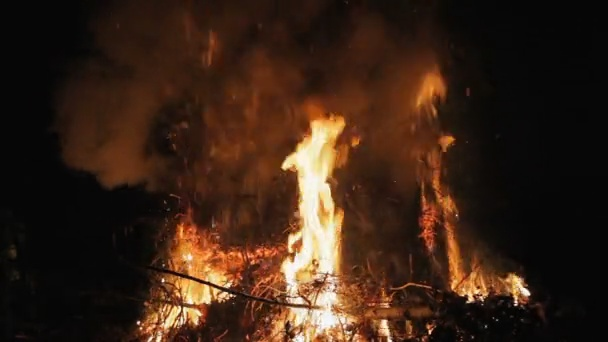fire: (269, 114, 352, 342), (139, 226, 230, 340), (452, 274, 528, 302), (379, 317, 391, 342)
